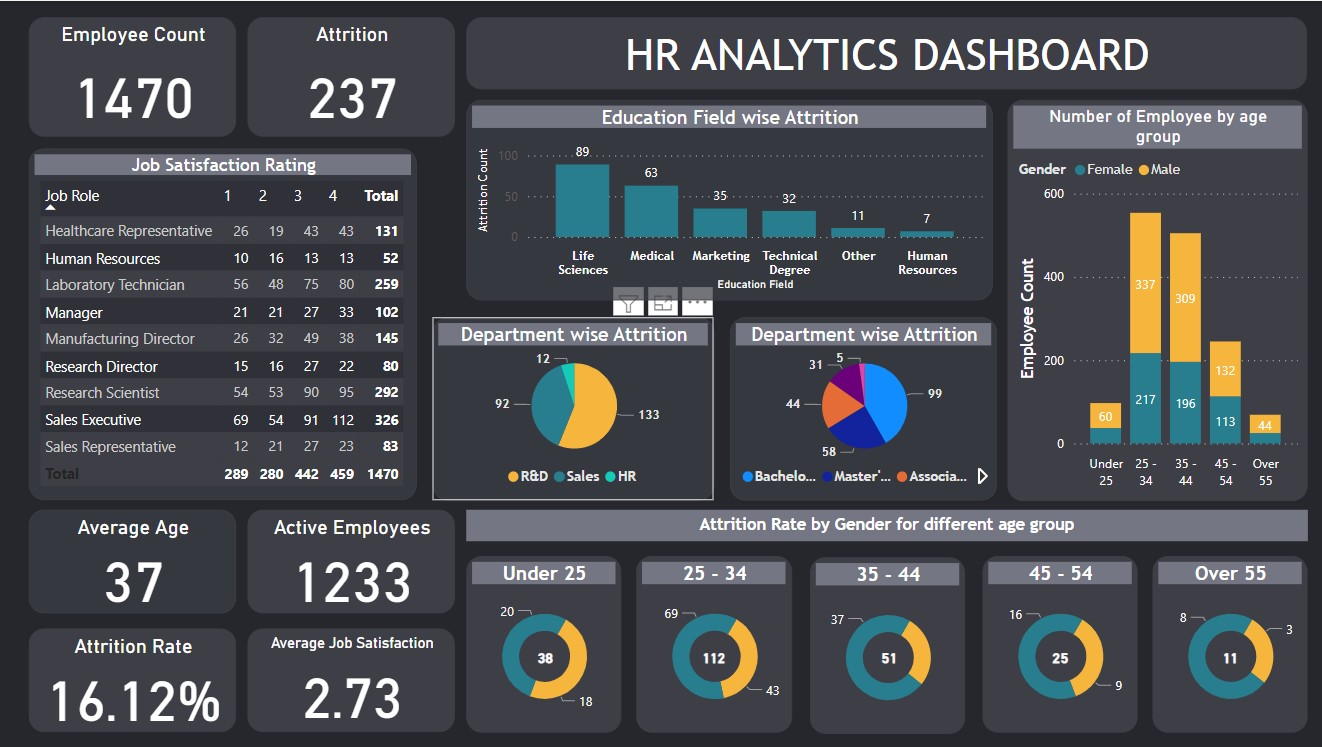

The dashboard page shown, as its layout file describes it:
{"tool":"powerbi","page":{"name":"Page 1","canvas":[1280,720],"ordinal":0},"visuals":[{"type":"card","title":"Employee Count","fields":{"Values":["Sum(HR_Data.Employee Count)"]},"box":[27.4,15.1,200.3,115.3],"z":0},{"type":"card","title":"Attrition","fields":{"Values":["Sum(HR_Data.Attrition Count)"]},"box":[238.8,15.1,200.3,115.3],"z":1000},{"type":"card","title":"Attrition Rate","fields":{"Values":["HR_Data.Attrition Rate"]},"box":[27.4,605.1,200.3,100],"z":2000},{"type":"card","title":"Active Employees","fields":{"Values":["HR_Data.Active Employees"]},"box":[238.8,491.3,200.3,100.2],"z":3000},{"type":"card","title":"Average Age","fields":{"Values":["Avg(HR_Data.Age)"]},"box":[27.4,491.3,200.3,100.2],"z":4000},{"type":"pieChart","title":"Department wise Attrition","fields":{"Category":["HR_Data.Department"],"Y":["Sum(HR_Data.Attrition Count)"]},"box":[417.2,304.6,271.7,177],"z":5000},{"type":"columnChart","title":"Number of Employee by age group","fields":{"Category":["HR_Data.CF_age band"],"Y":["Sum(HR_Data.Employee Count)"],"Series":["HR_Data.Gender"]},"box":[971.5,94.7,289.5,387],"z":6000},{"type":"pivotTable","title":"Job Satisfaction Rating","fields":{"Rows":["HR_Data.Job Role"],"Columns":["HR_Data.Job Satisfaction"],"Values":["Sum(HR_Data.Employee Count)"]},"box":[27.4,142.7,374.6,338.9],"z":7000},{"type":"clusteredColumnChart","title":"Education Field wise Attrition","fields":{"Category":["HR_Data.Education Field"],"Y":["Sum(HR_Data.Attrition Count)"]},"box":[450.1,94.7,507.7,193.5],"z":8000},{"type":"card","title":"Average Job Satisfaction","fields":{"Values":["HR_Data.Job Satisfaction Avg"]},"box":[238.8,605.1,200.3,100.2],"z":9000},{"type":"pieChart","title":"Department wise Attrition","fields":{"Y":["Sum(HR_Data.Attrition Count)"],"Category":["HR_Data.Education","HR_Data.Education Field"]},"box":[703.9,304.6,258,177],"z":10000},{"type":"donutChart","title":"Under 25","fields":{"Category":["HR_Data.Gender"],"Y":["Sum(HR_Data.Attrition Count)"],"Series":["HR_Data.CF_age band"]},"box":[450.1,535.2,149.6,170.2],"z":11000},{"type":"textbox","box":[449.8,490.9,811.7,30.2],"z":12000},{"type":"donutChart","title":"Over 55","fields":{"Category":["HR_Data.Gender"],"Y":["Sum(HR_Data.Attrition Count)"],"Series":["HR_Data.CF_age band"]},"box":[1112,535.5,149.5,170.1],"z":13000},{"type":"donutChart","title":"25 - 34","fields":{"Category":["HR_Data.Gender"],"Y":["Sum(HR_Data.Attrition Count)"],"Series":["HR_Data.CF_age band"]},"box":[613.9,535.5,150,170.1],"z":14000},{"type":"donutChart","title":"35 - 44","fields":{"Category":["HR_Data.Gender"],"Y":["Sum(HR_Data.Attrition Count)"],"Series":["HR_Data.CF_age band"]},"box":[781.5,536.7,149.5,170.1],"z":15000},{"type":"donutChart","title":"45 - 54","fields":{"Category":["HR_Data.Gender"],"Y":["Sum(HR_Data.Attrition Count)"],"Series":["HR_Data.CF_age band"]},"box":[947.9,535.5,149.5,170.1],"z":16000},{"type":"card","fields":{"Values":["Sum(HR_Data.Attrition Count)"]},"box":[513.2,620.2,24.7,24.7],"z":17000},{"type":"card","fields":{"Values":["Sum(HR_Data.Attrition Count)"]},"box":[1010,620.2,27,24.7],"z":18000},{"type":"card","fields":{"Values":["Sum(HR_Data.Attrition Count)"]},"box":[843.9,620.2,27,24.7],"z":19000},{"type":"card","fields":{"Values":["Sum(HR_Data.Attrition Count)"]},"box":[672.4,620.2,31.6,24.7],"z":20000},{"type":"card","fields":{"Values":["Sum(HR_Data.Attrition Count)"]},"box":[1174.6,620.2,24.7,24.7],"z":21000},{"type":"textbox","box":[450.1,15.1,811,70],"z":22000}]}

Visuals, with their boxes in screenshot pixels (x1, y1, x2, y2), scaled from the page's 1280x720 canvas onto the 1322x747 screenshot:
"Employee Count" card: x1=28 y1=16 x2=235 y2=135
"Attrition" card: x1=247 y1=16 x2=454 y2=135
"Attrition Rate" card: x1=28 y1=628 x2=235 y2=732
"Active Employees" card: x1=247 y1=510 x2=454 y2=614
"Average Age" card: x1=28 y1=510 x2=235 y2=614
"Department wise Attrition" pieChart: x1=431 y1=316 x2=712 y2=500
"Number of Employee by age group" columnChart: x1=1003 y1=98 x2=1302 y2=500
"Job Satisfaction Rating" pivotTable: x1=28 y1=148 x2=415 y2=500
"Education Field wise Attrition" clusteredColumnChart: x1=465 y1=98 x2=989 y2=299
"Average Job Satisfaction" card: x1=247 y1=628 x2=454 y2=732
"Department wise Attrition" pieChart: x1=727 y1=316 x2=993 y2=500
"Under 25" donutChart: x1=465 y1=555 x2=619 y2=732
textbox: x1=465 y1=509 x2=1303 y2=541
"Over 55" donutChart: x1=1148 y1=556 x2=1303 y2=732
"25 - 34" donutChart: x1=634 y1=556 x2=789 y2=732
"35 - 44" donutChart: x1=807 y1=557 x2=962 y2=733
"45 - 54" donutChart: x1=979 y1=556 x2=1133 y2=732
card - Sum(HR_Data.Attrition Count): x1=530 y1=643 x2=556 y2=669
card - Sum(HR_Data.Attrition Count): x1=1043 y1=643 x2=1071 y2=669
card - Sum(HR_Data.Attrition Count): x1=872 y1=643 x2=899 y2=669
card - Sum(HR_Data.Attrition Count): x1=694 y1=643 x2=727 y2=669
card - Sum(HR_Data.Attrition Count): x1=1213 y1=643 x2=1239 y2=669
textbox: x1=465 y1=16 x2=1302 y2=88
